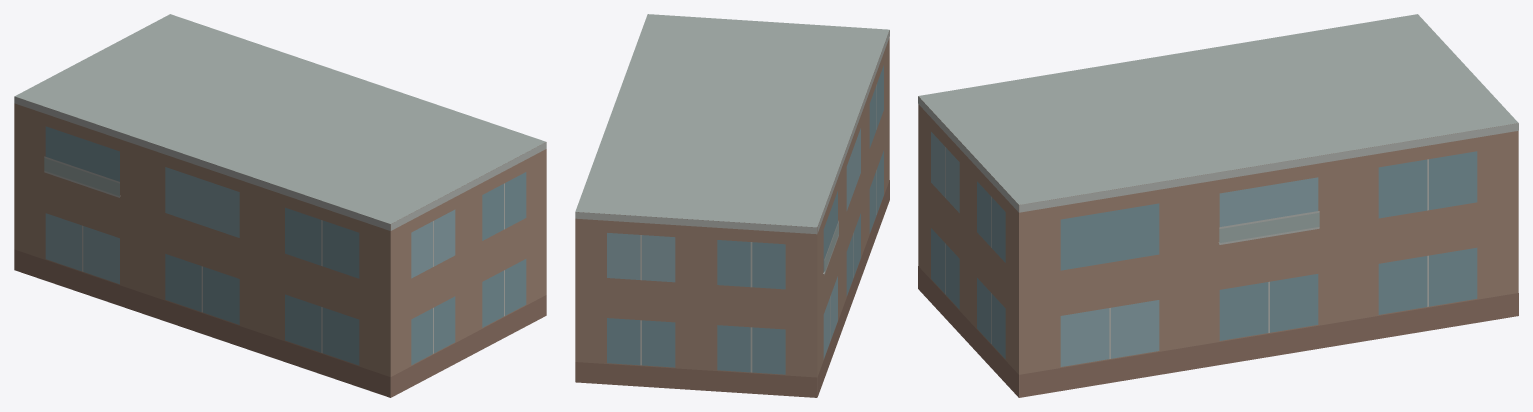
File: survey-upis-32698443.glb
3 renders of one model, left to right at view 1: azimuth 30°, elevation 25°; view 2: azimuth 150°, elevation 25°; view 3: azimuth 270°, elevation 25°, orthographic. The views are drawn at different scales.
Parts seen in each view (by area): view 1: survey-upis-32698443.tmp; view 2: survey-upis-32698443.tmp; view 3: survey-upis-32698443.tmp.
Boxes of the visible parts, left/top/right/bottom form: survey-upis-32698443.tmp: left=14, top=14, right=546, bottom=397; survey-upis-32698443.tmp: left=575, top=14, right=889, bottom=397; survey-upis-32698443.tmp: left=918, top=14, right=1518, bottom=397.
Size of the model in its own units: 12.96 by 6.1 by 17.23.
